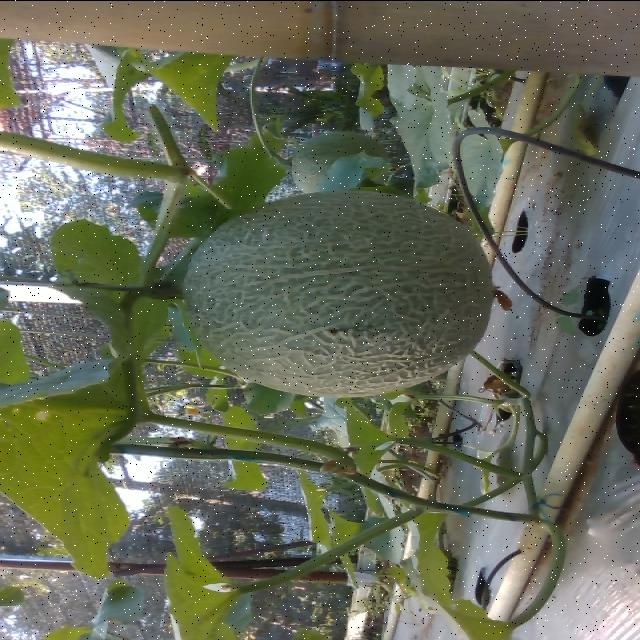melon: (183, 188, 494, 395)
